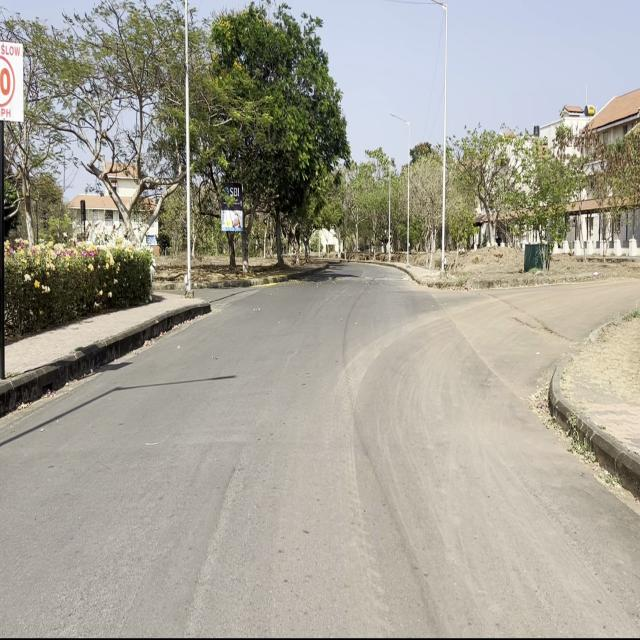Road: (3, 261, 633, 632)
